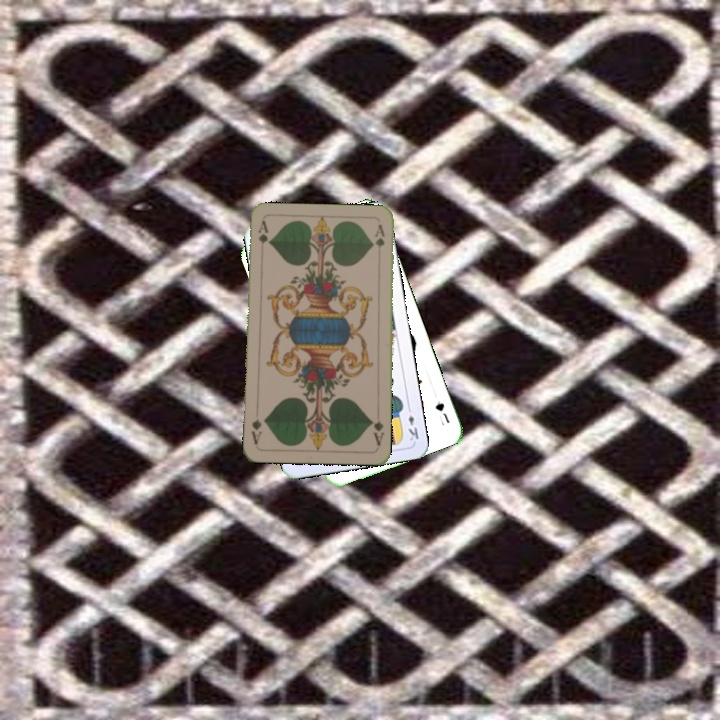EK: (403, 402, 421, 443)
GA: (367, 408, 386, 448), (254, 217, 270, 246)
GU: (431, 397, 452, 426)
